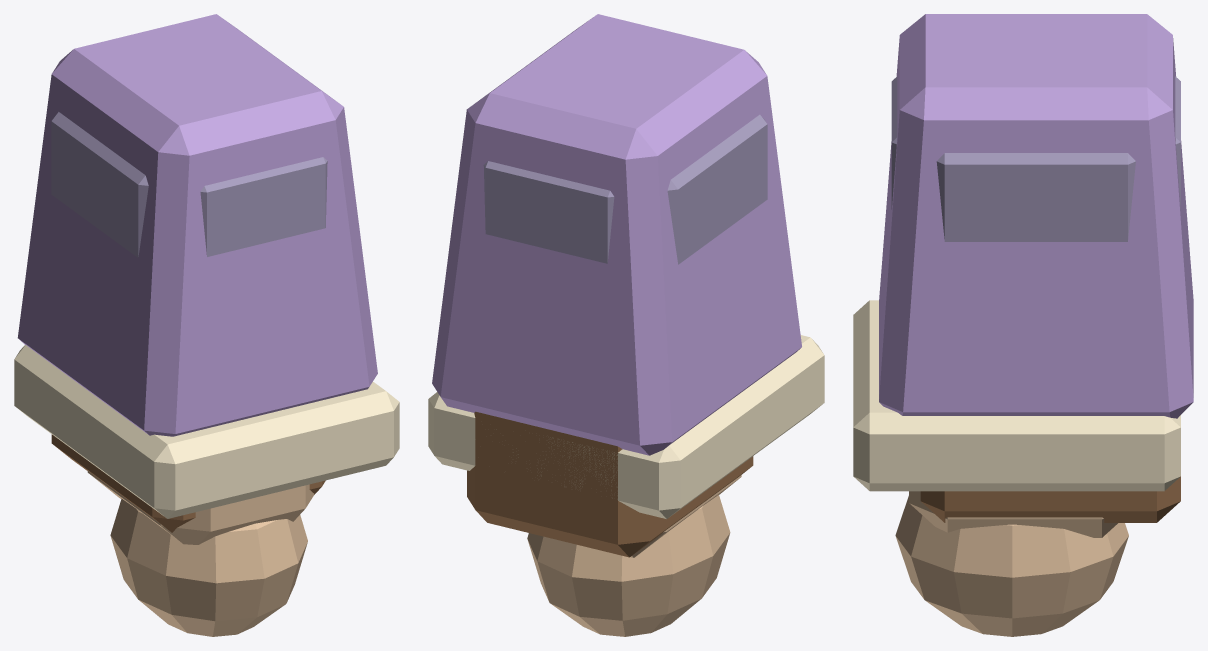
File: Oracle_Runner_LeftArm.fbx
3 renders of one model, left to right at view 1: azimuth 30°, elevation 25°; view 2: azimuth 150°, elevation 25°; view 3: azimuth 270°, elevation 25°, orthographic. The views are drawn at different scales.
Visible parts, largest first — view 1: Oracle_Runner_LeftArm; view 2: Oracle_Runner_LeftArm; view 3: Oracle_Runner_LeftArm.
Boxes of the visible parts, <box> form: Oracle_Runner_LeftArm: <box>14,14,399,636</box>; Oracle_Runner_LeftArm: <box>428,14,824,636</box>; Oracle_Runner_LeftArm: <box>853,14,1193,636</box>.
Size of the model in its own units: 31 by 66.12 by 35.33.
